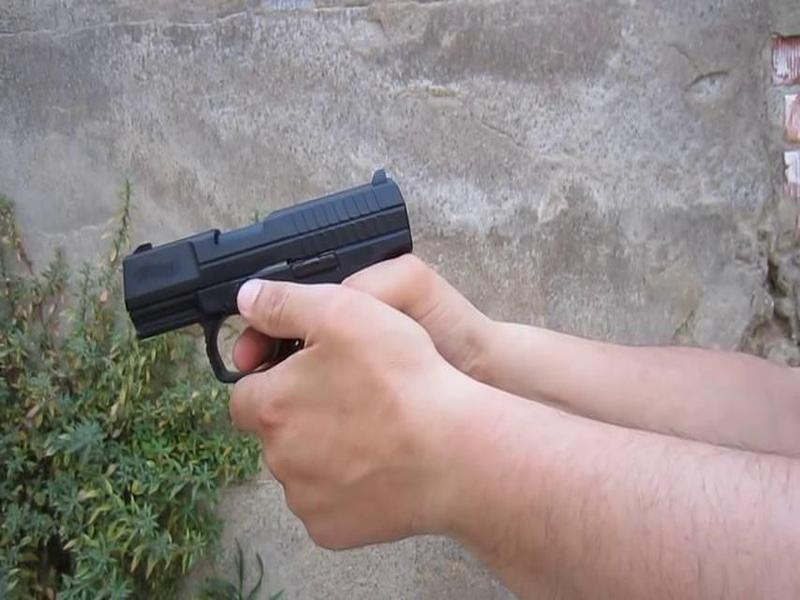Pistola: (107, 162, 443, 395)
